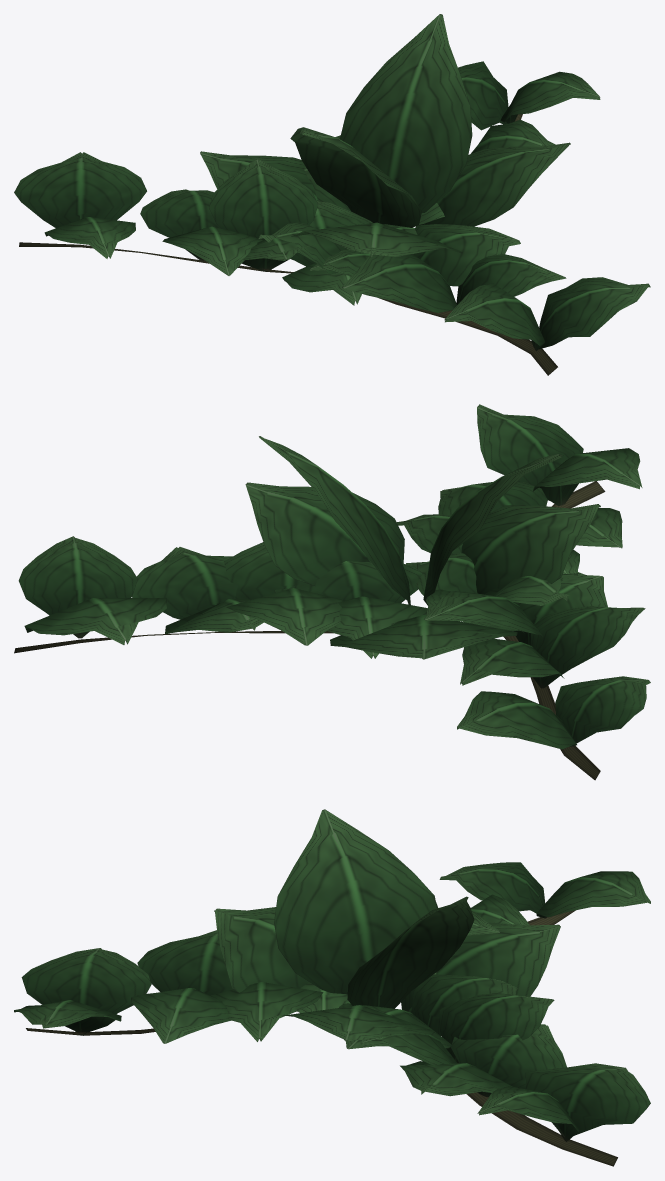
Rendered from Immergruen.fbx.
3 renders of one model, top to bottom at view 1: azimuth 30°, elevation 25°; view 2: azimuth 150°, elevation 25°; view 3: azimuth 270°, elevation 25°, orthographic. The views are drawn at different scales.
Visible parts, largest first — view 1: Immergruen; view 2: Immergruen; view 3: Immergruen.
Boxes of the visible parts, <box> form: Immergruen: <box>14,14,650,375</box>; Immergruen: <box>14,404,650,780</box>; Immergruen: <box>14,809,650,1166</box>.
Size of the model in its own units: 0.4669 by 0.1522 by 0.4569.
